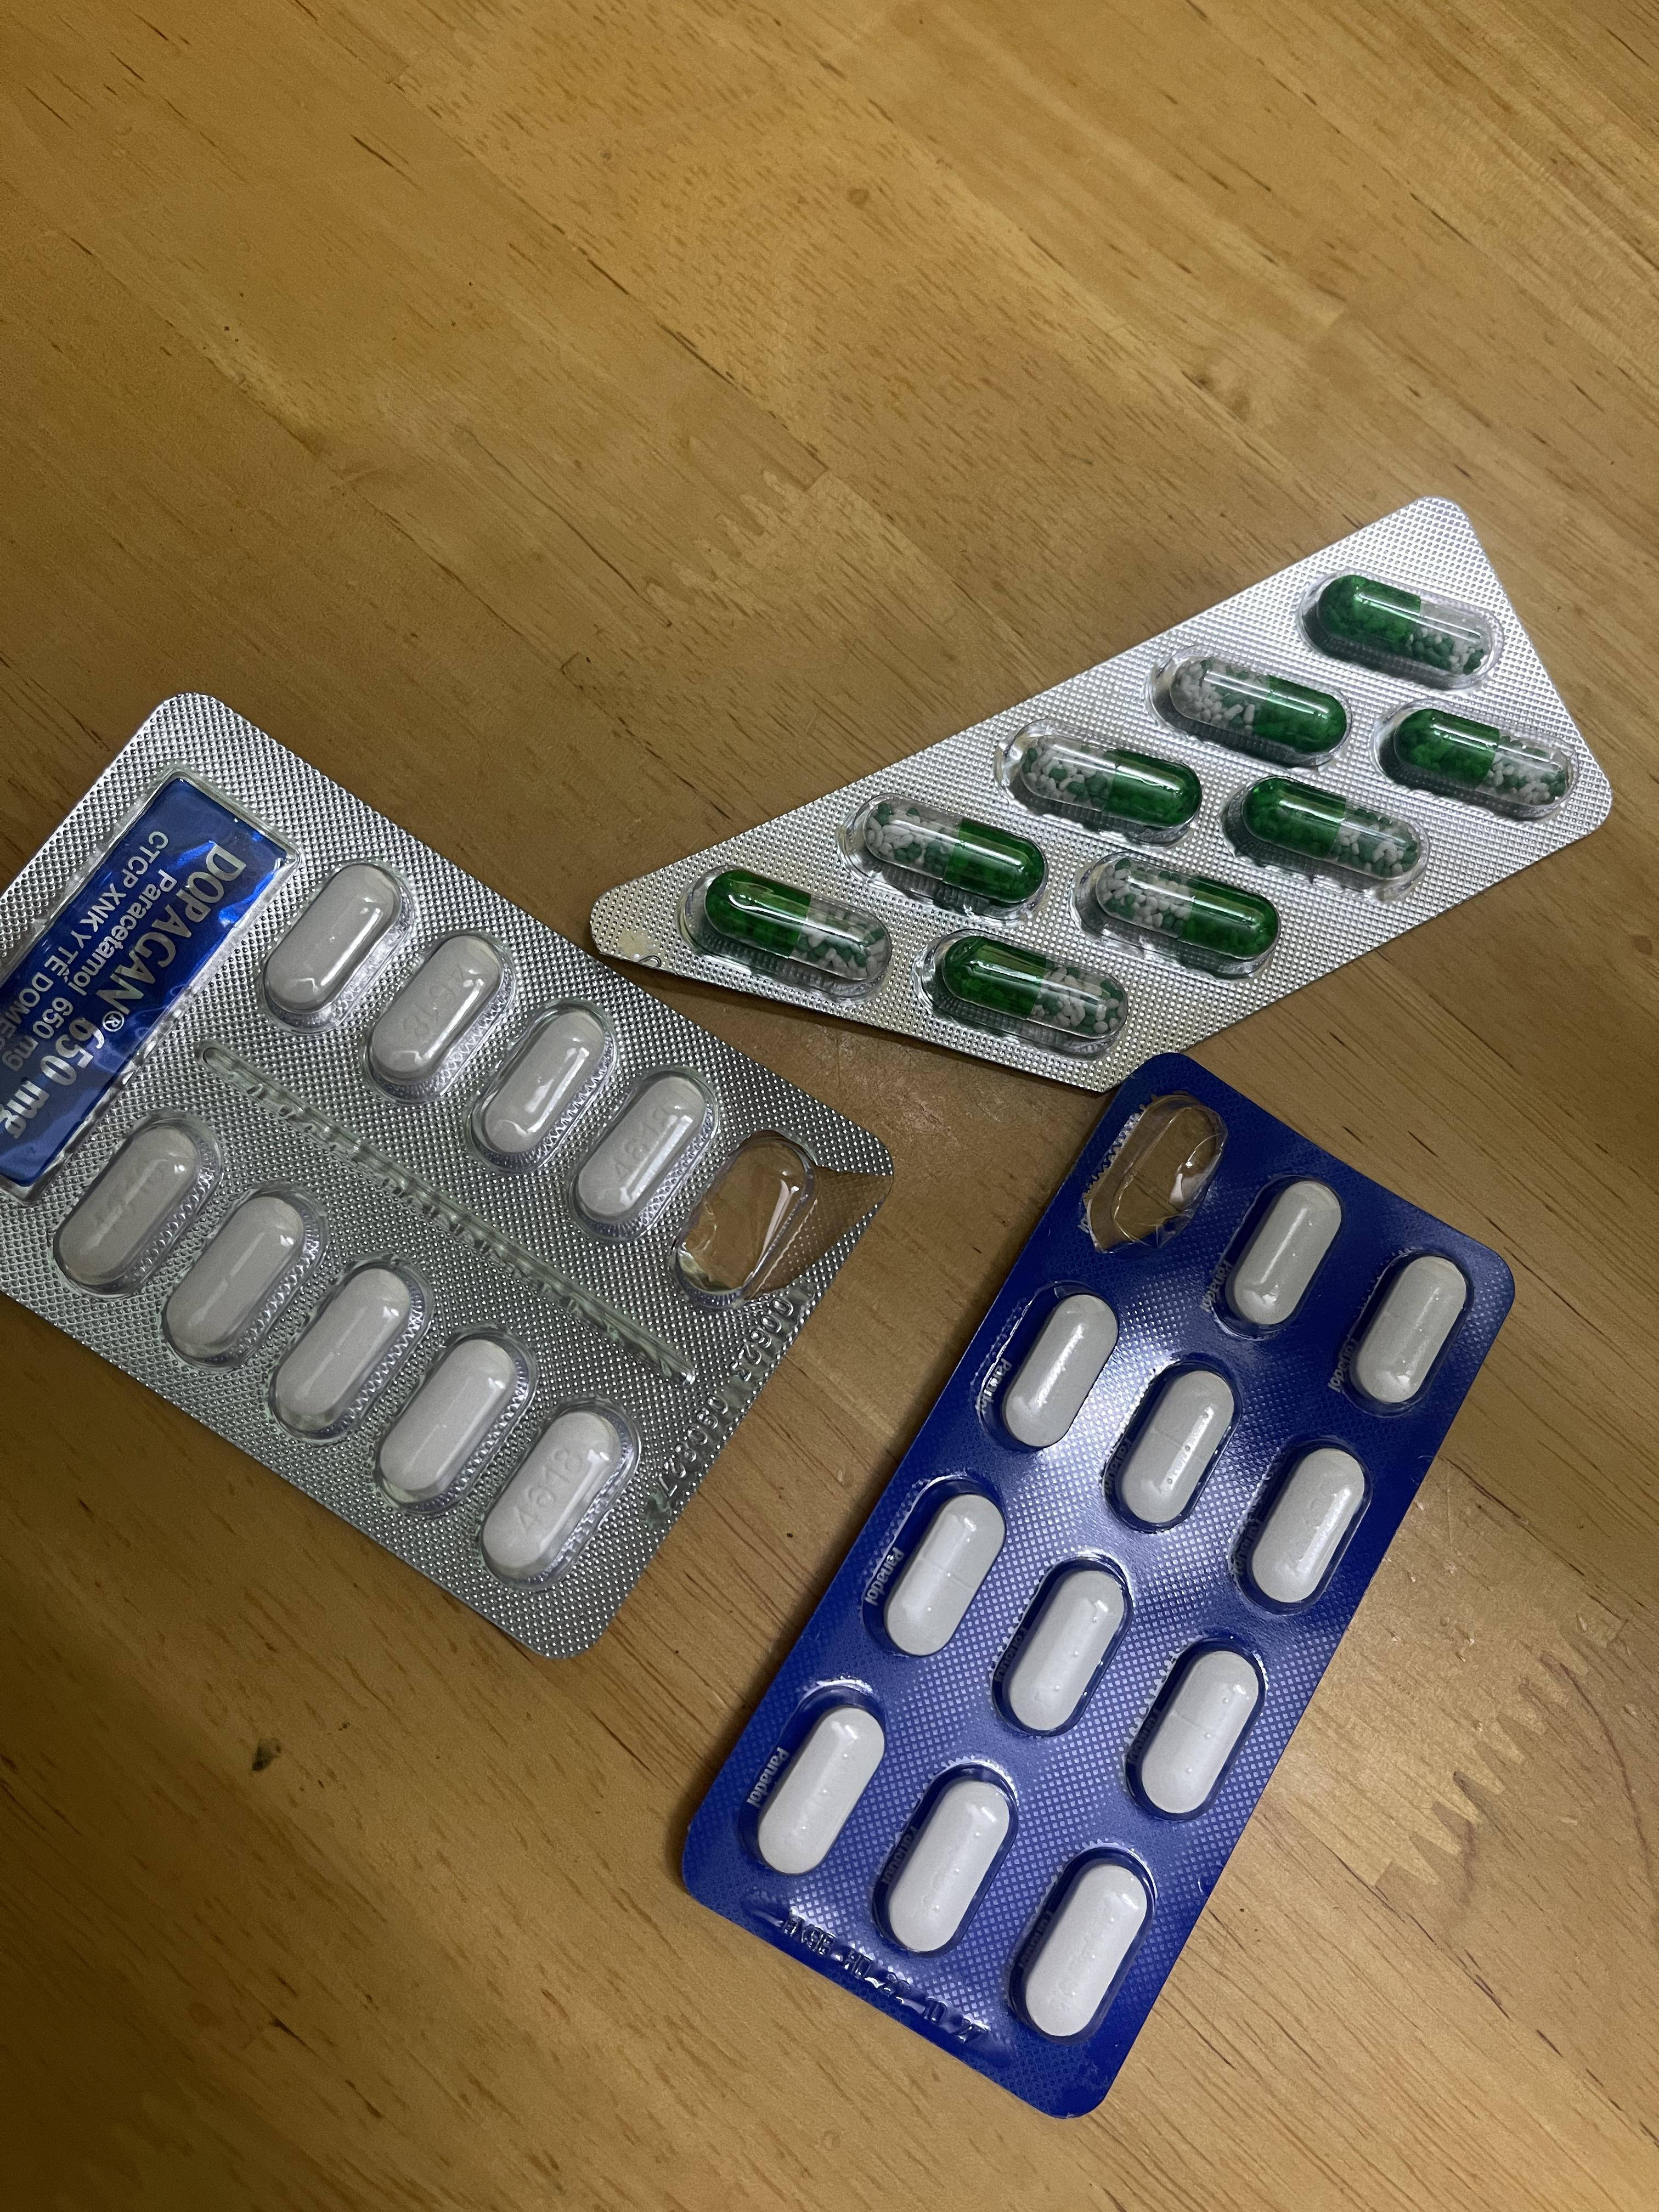Paracetamol_350mg: (877, 1766, 1021, 1963), (1018, 1855, 1155, 2041), (1127, 1642, 1267, 1825), (993, 1557, 1131, 1737), (755, 1700, 884, 1881), (1112, 1364, 1244, 1536), (882, 1489, 1011, 1660), (1244, 1444, 1371, 1611), (1345, 1252, 1471, 1411), (1000, 1294, 1121, 1454), (1222, 1181, 1345, 1331)
Paracetamol_500mg: (162, 1181, 326, 1367), (369, 1325, 530, 1505), (566, 1066, 716, 1238), (258, 860, 413, 1024), (464, 1003, 612, 1163), (268, 1266, 411, 1432), (366, 932, 505, 1094), (479, 1411, 613, 1576), (59, 1123, 195, 1278)
Paracetamol_650mg: (1241, 780, 1417, 888), (708, 873, 884, 977), (1389, 709, 1567, 812), (1316, 578, 1492, 681), (1166, 657, 1345, 756), (1016, 737, 1197, 831), (943, 941, 1110, 1040), (871, 806, 1042, 902), (1101, 867, 1276, 960)
